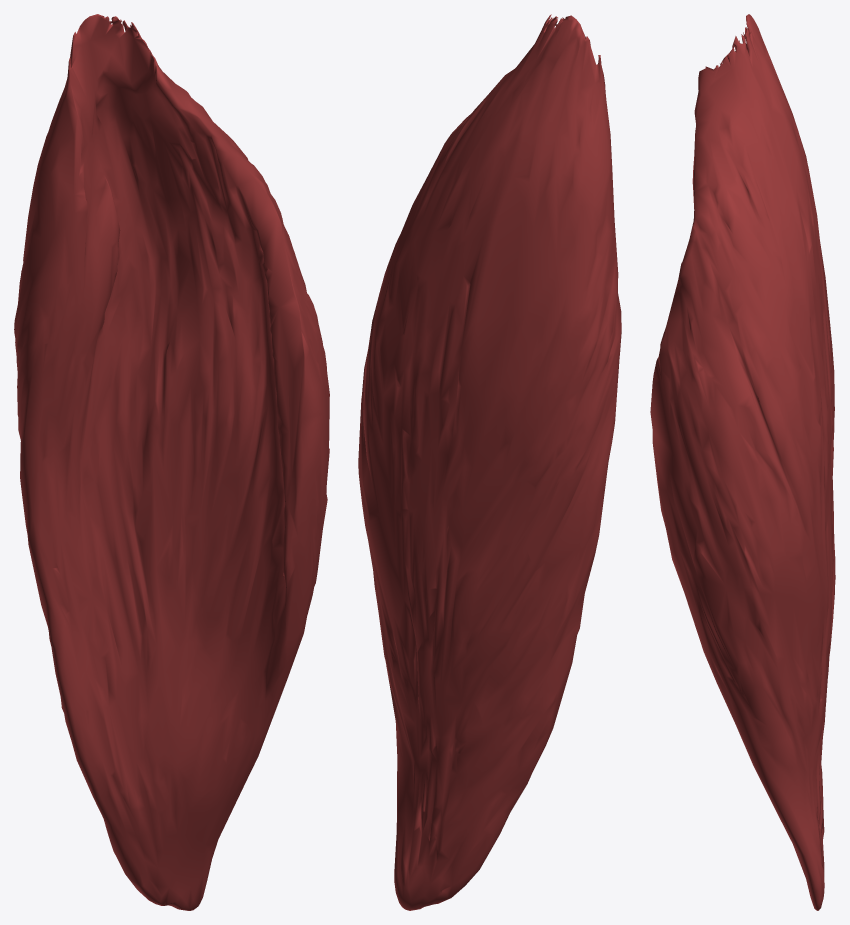
The model's file is soleus-muscle-r.glb.
The picture shows the model from 3 angles, left to right: view 1: azimuth 30°, elevation 25°; view 2: azimuth 150°, elevation 25°; view 3: azimuth 270°, elevation 25°; orthographic projection. The views are drawn at different scales.
Visible parts, largest first — view 1: Soleus muscle.r; view 2: Soleus muscle.r; view 3: Soleus muscle.r.
Part boxes in pixels (<box>): Soleus muscle.r: <box>14,14,329,910</box>; Soleus muscle.r: <box>358,14,621,910</box>; Soleus muscle.r: <box>650,14,835,910</box>.
Bounding box in the file's own units: 0.0851 × 0.2758 × 0.0552.
